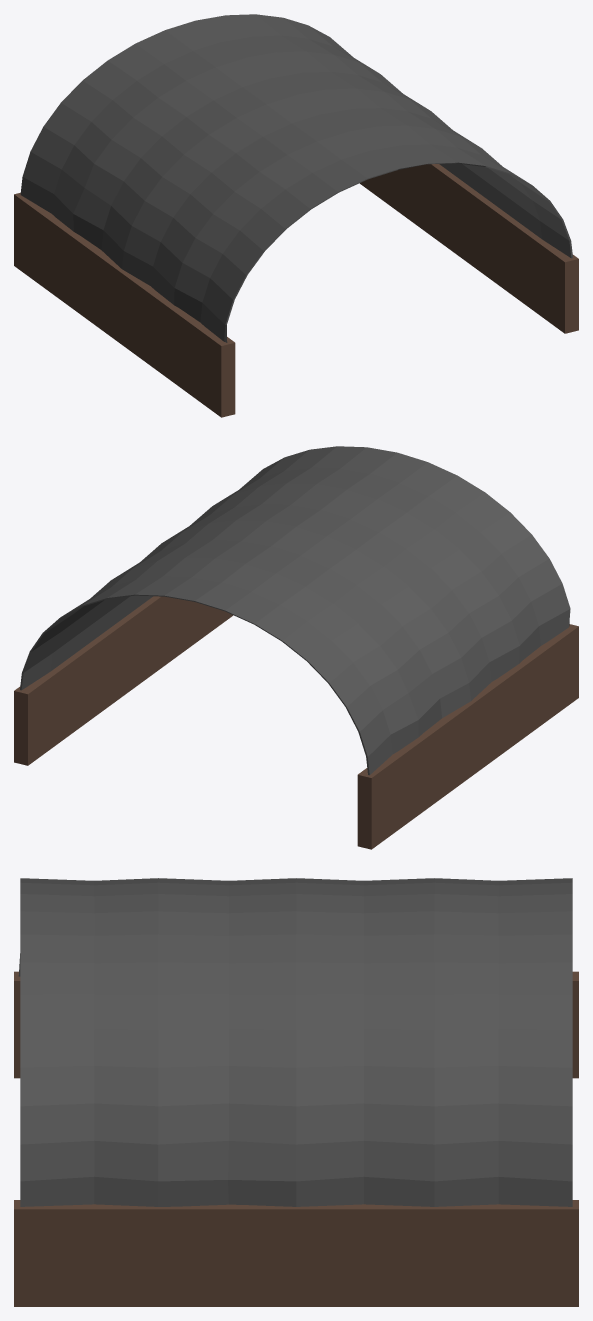
The model's file is Hangar.fbx.
3 renders of one model, top to bottom at view 1: azimuth 30°, elevation 25°; view 2: azimuth 150°, elevation 25°; view 3: azimuth 270°, elevation 25°, orthographic. The views are drawn at different scales.
Visible parts, largest first — view 1: Cylinder, Cube.001, Cube; view 2: Cylinder, Cube.001, Cube; view 3: Cylinder, Cube, Cube.001.
Boxes of the visible parts, box(x1,y1,x2,y2) form: Cylinder: box(20, 14, 572, 342); Cube.001: box(14, 192, 235, 417); Cube: box(359, 164, 578, 333); Cylinder: box(20, 446, 570, 775); Cube.001: box(357, 624, 578, 849); Cube: box(14, 596, 233, 765); Cylinder: box(18, 878, 572, 1206); Cube: box(14, 1200, 578, 1306); Cube.001: box(14, 971, 578, 1078).
Bounding box in the file's own units: 2069 × 2079 × 1124.
